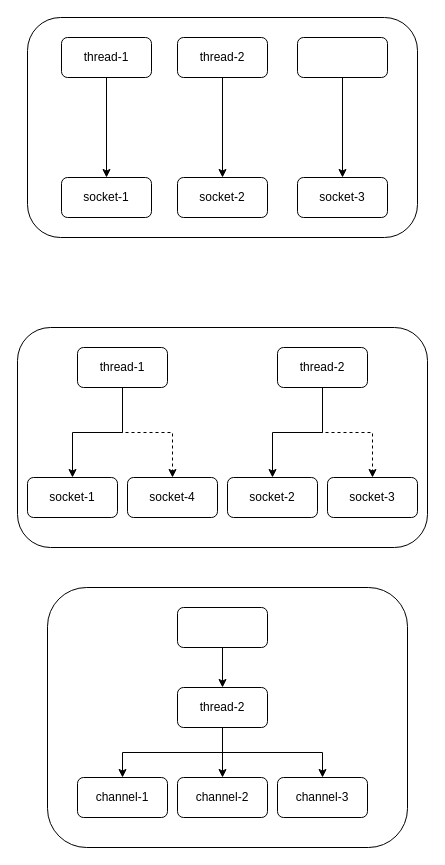
Image size: 445x865. Some labels were removed from this diagram. Each missing label, with the box of its shape:
thread: (176, 606, 268, 648)
thread-3: (296, 36, 388, 78)
